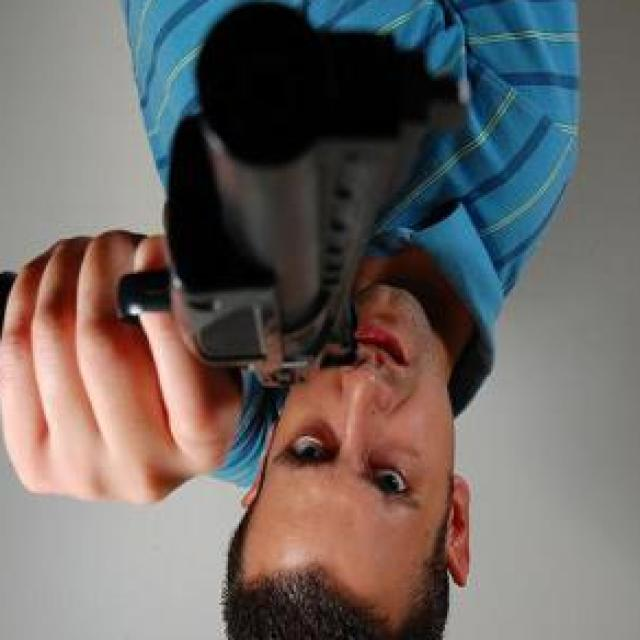pistol: (0, 7, 456, 403)
